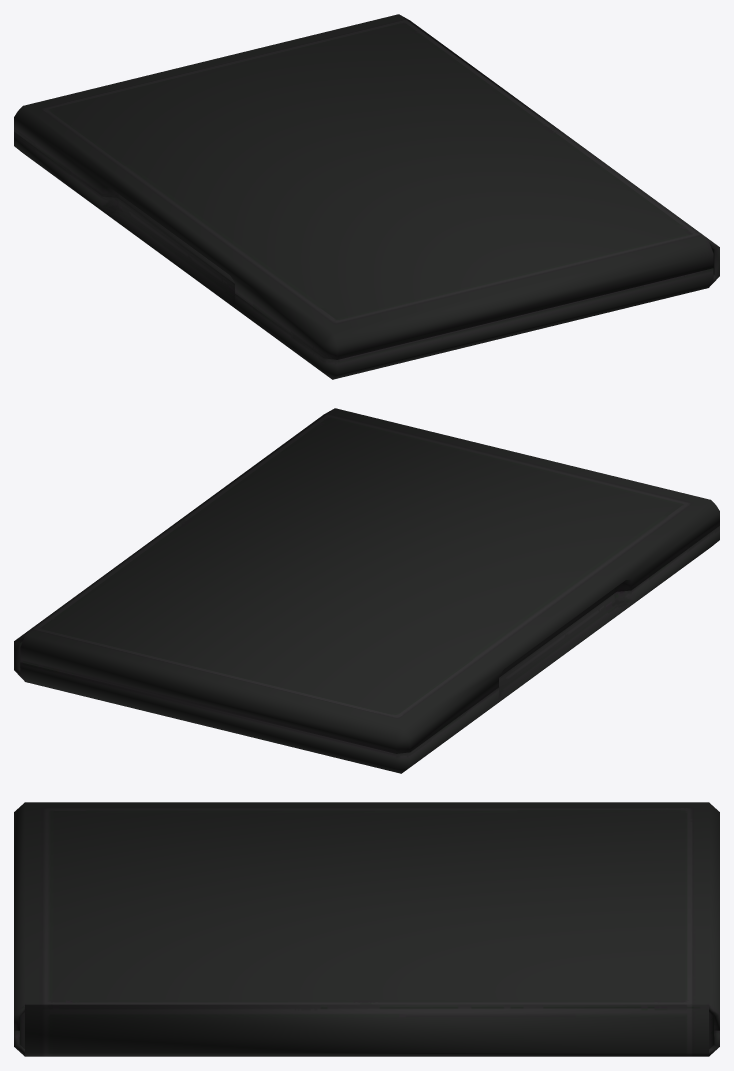
File: dvd_case_generic.dae
3 views of the same model, one above another, from view 1: azimuth 30°, elevation 25°; view 2: azimuth 150°, elevation 25°; view 3: azimuth 270°, elevation 25° (orthographic). The views are drawn at different scales.
Visible parts, largest first — view 1: polySurface13; view 2: polySurface13; view 3: polySurface13.
Part boxes in pixels (x1,y1,x2,y2): polySurface13: (14,14,719,379); polySurface13: (14,408,719,773); polySurface13: (14,802,719,1056).
Size of the model in its own units: 0.1359 by 0.0155 by 0.19.
